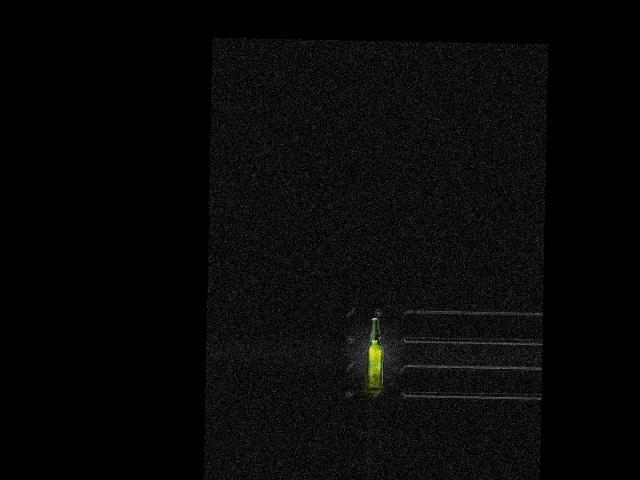beer: (366, 317, 384, 389)
